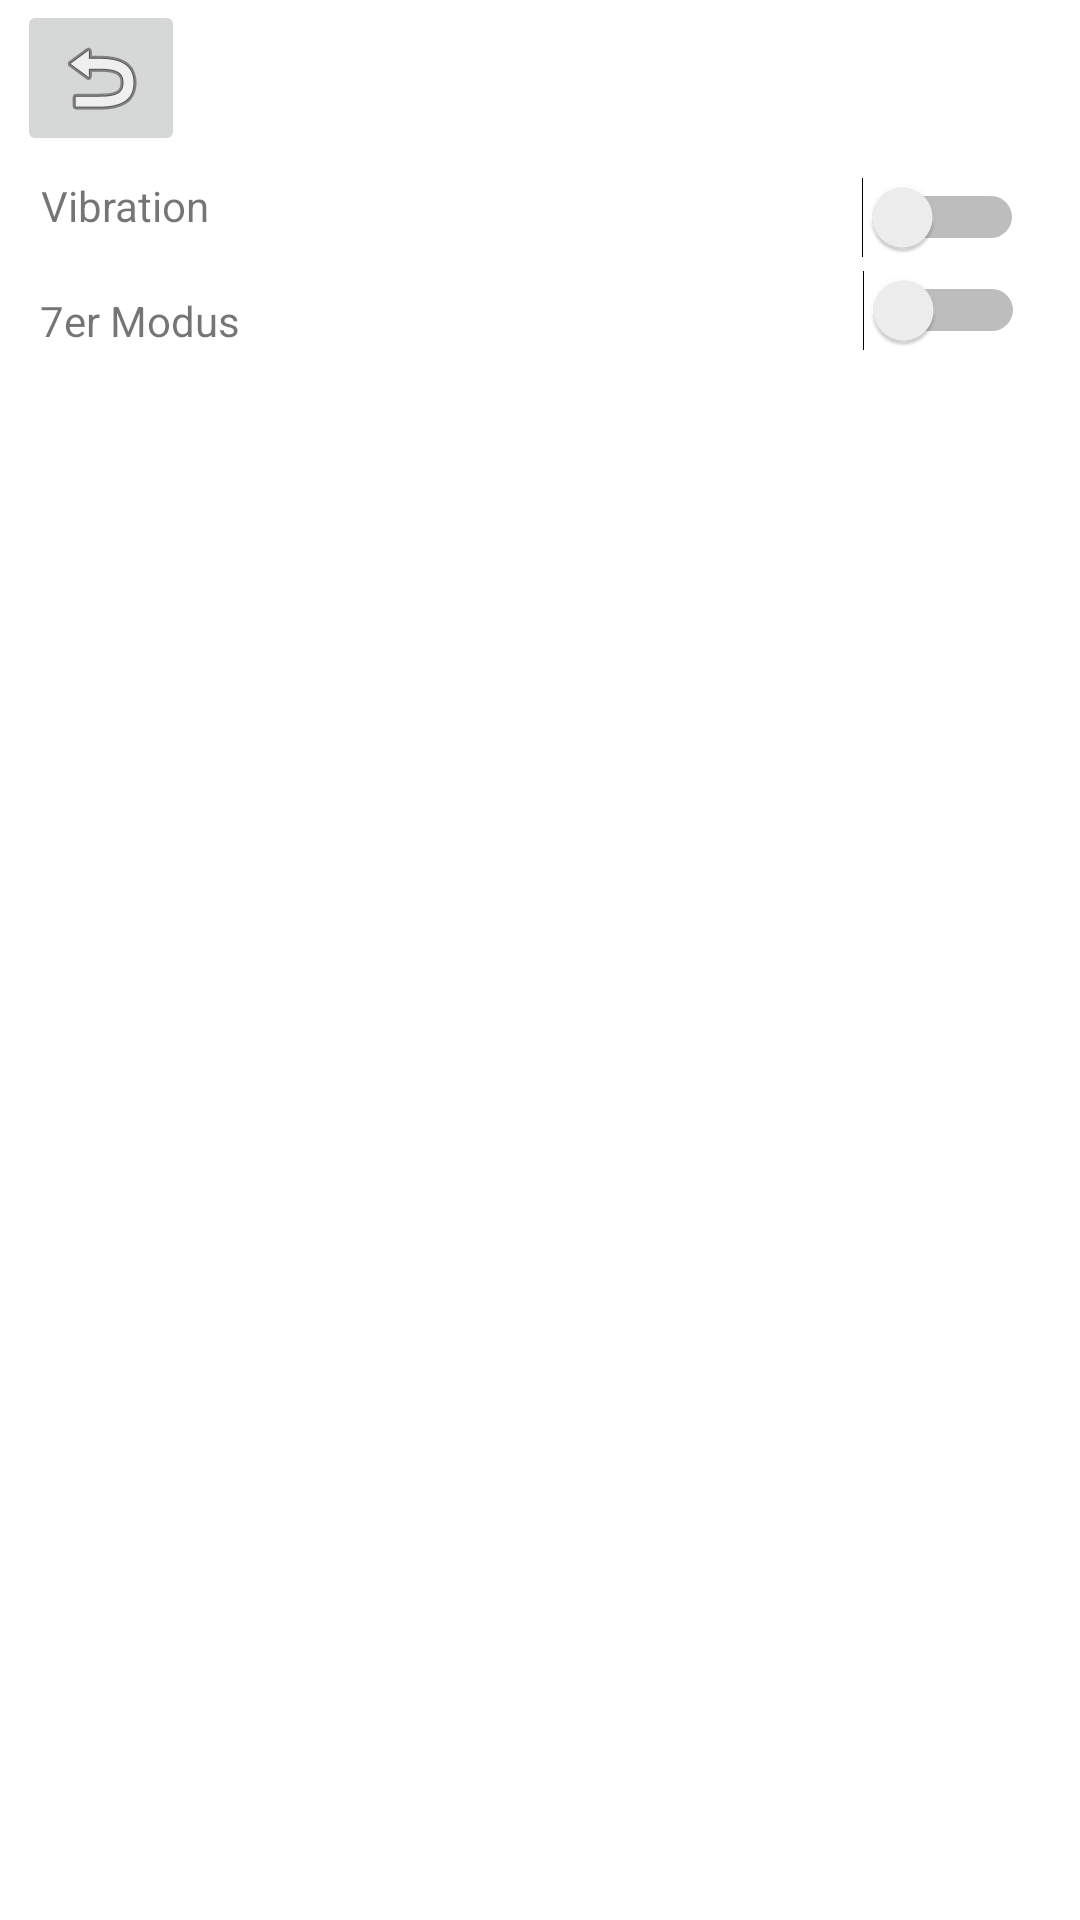

Locate icon controls on the screen. Image size 1080px x 1920px, boxes as (x1, y1, x2, y2).
revert: (29, 18, 173, 138)
